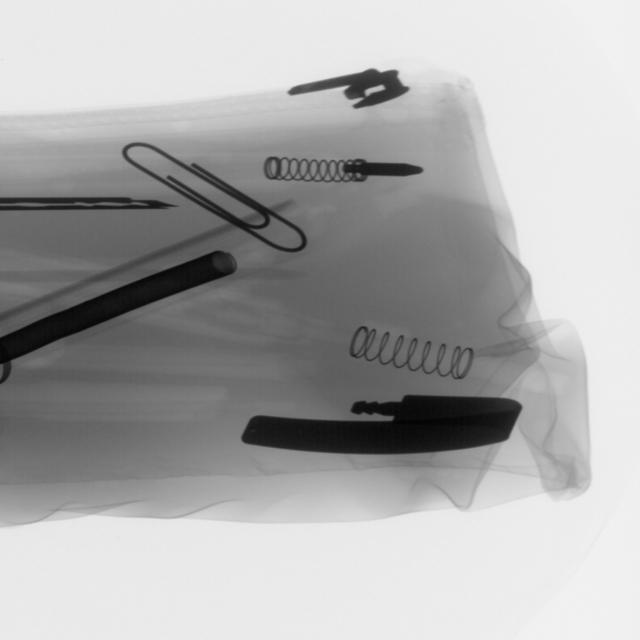pin: (128, 136, 316, 258)
razor: (0, 193, 168, 214)
